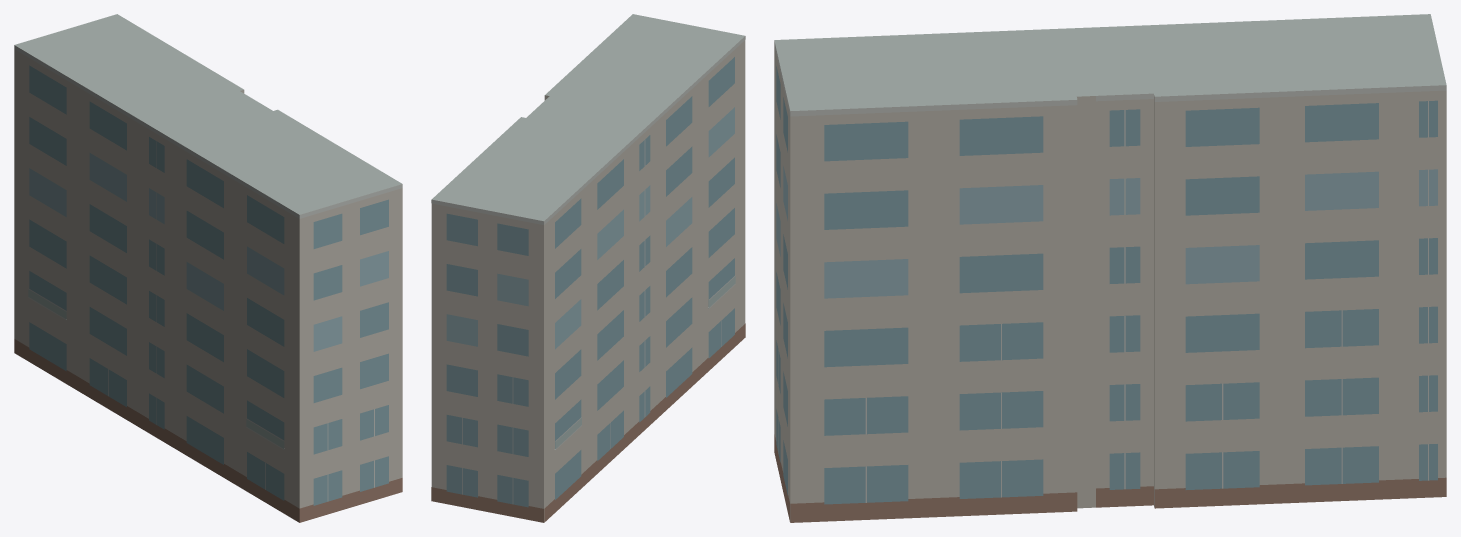
Rendered from survey-upis-32567922.glb.
3 renders of one model, left to right at view 1: azimuth 30°, elevation 25°; view 2: azimuth 150°, elevation 25°; view 3: azimuth 270°, elevation 25°, orthographic. The views are drawn at different scales.
Visible parts, largest first — view 1: survey-upis-32567922.tmp; view 2: survey-upis-32567922.tmp; view 3: survey-upis-32567922.tmp.
Part boxes in pixels (x1,y1,x2,y2): survey-upis-32567922.tmp: (14, 14, 402, 522); survey-upis-32567922.tmp: (431, 14, 745, 522); survey-upis-32567922.tmp: (774, 14, 1446, 522).
Size of the model in its own units: 9.52 by 18.8 by 27.83.
